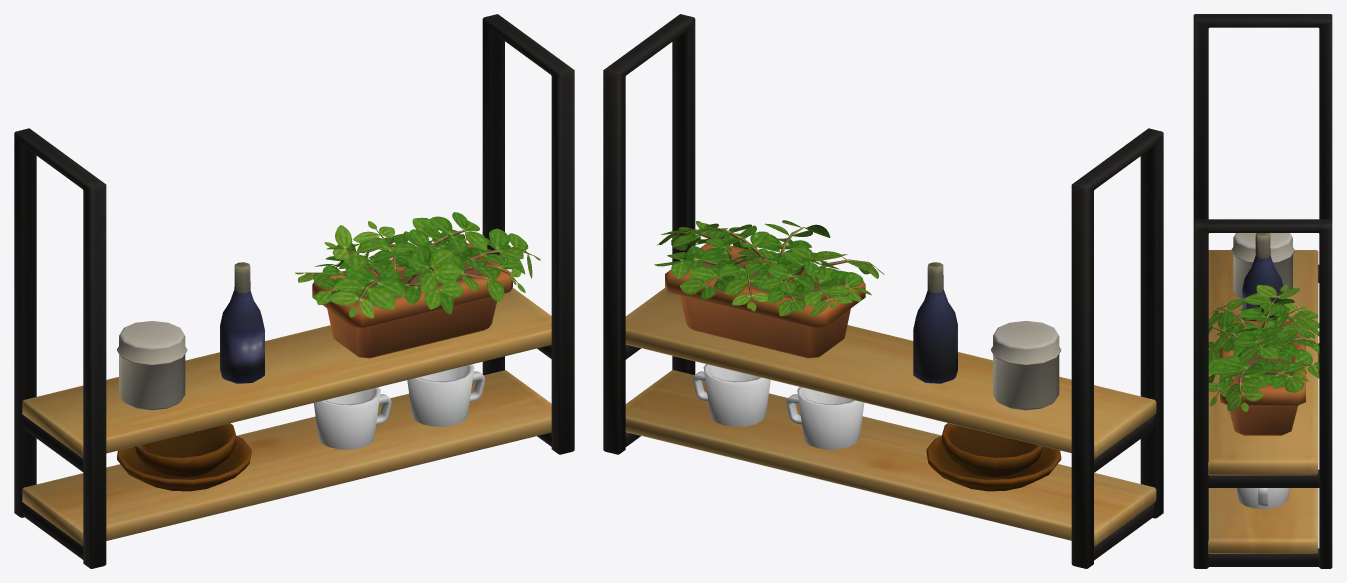
3 views of the same model, side by side, from view 1: azimuth 30°, elevation 25°; view 2: azimuth 150°, elevation 25°; view 3: azimuth 270°, elevation 25° (orthographic). The views are drawn at different scales.
Bounding box in the file's own units: 19.98 × 15.04 × 5.57.
Materials: 1 (1 with a texture image).
